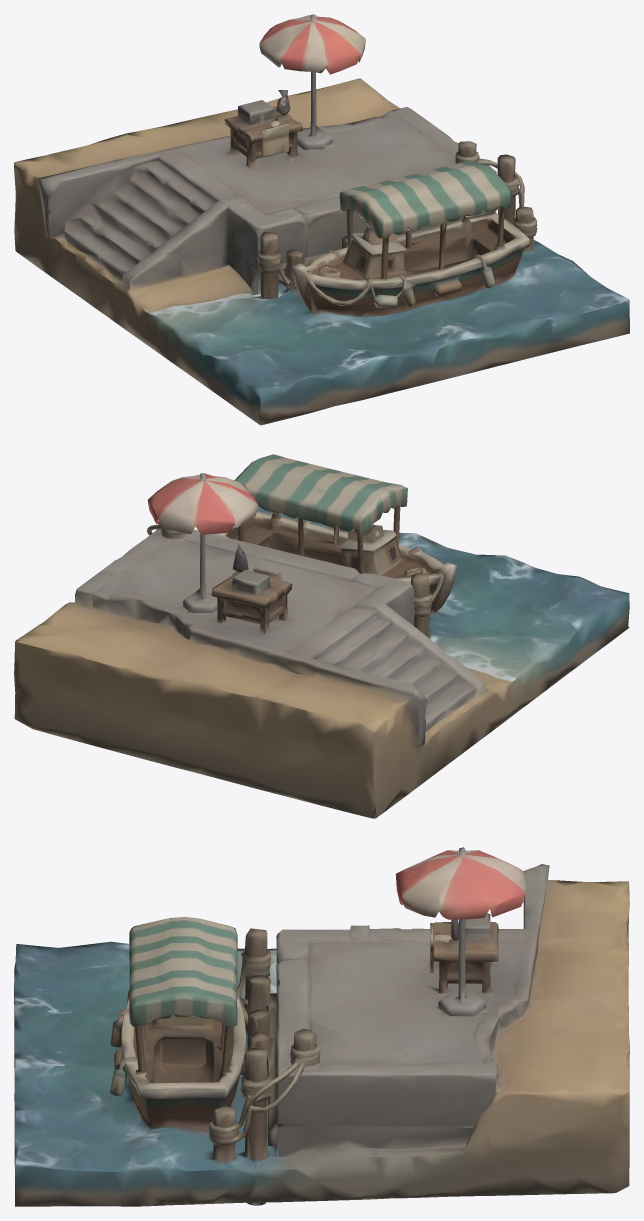
File: jetty_main.glb
The picture shows the model from 3 angles, top to bottom: view 1: azimuth 30°, elevation 25°; view 2: azimuth 150°, elevation 25°; view 3: azimuth 270°, elevation 25°; orthographic projection. The views are drawn at different scales.
Parts seen in each view (by area): view 1: tripo_node_fa68c472-0ce1-4209-b2ac-e9c616defd37; view 2: tripo_node_fa68c472-0ce1-4209-b2ac-e9c616defd37; view 3: tripo_node_fa68c472-0ce1-4209-b2ac-e9c616defd37.
Part boxes in pixels (<box>): tripo_node_fa68c472-0ce1-4209-b2ac-e9c616defd37: <box>14,14,629,425</box>; tripo_node_fa68c472-0ce1-4209-b2ac-e9c616defd37: <box>14,454,629,818</box>; tripo_node_fa68c472-0ce1-4209-b2ac-e9c616defd37: <box>14,847,629,1206</box>.
Size of the model in its own units: 0.8842 by 0.5116 by 1.
1 material, 1 textured.
